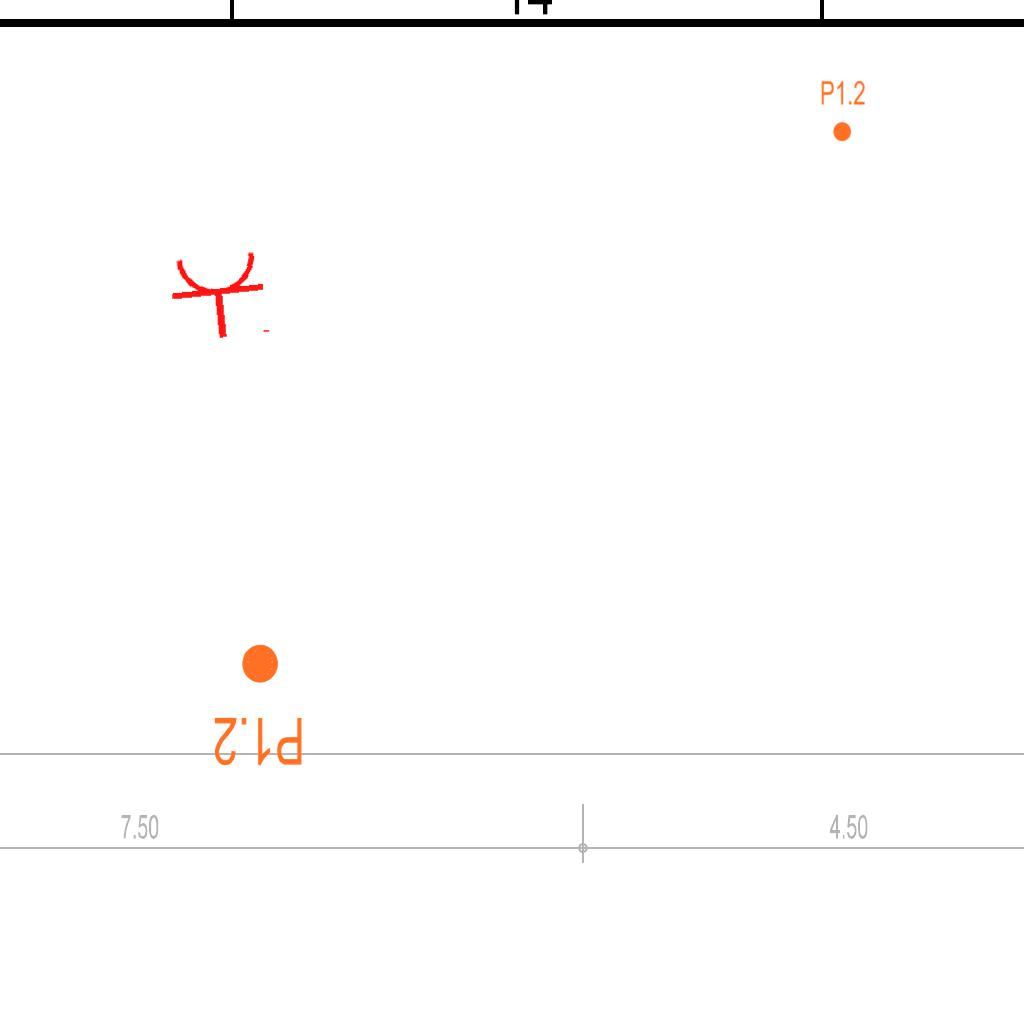Downlight_LED_Einbauleuchten_Flur: (212, 641, 305, 769), (820, 79, 866, 143)
Schukosteckdose_einfach: (166, 247, 275, 345)
